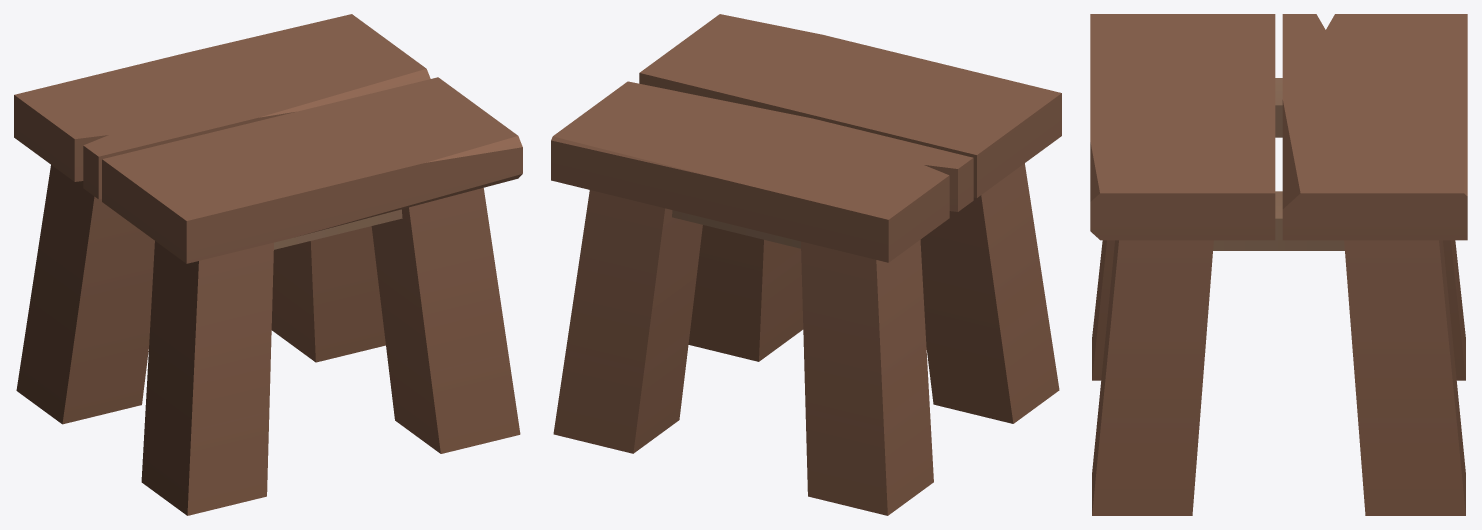
The model's file is Chair_01.fbx.
3 views of the same model, side by side, from view 1: azimuth 30°, elevation 25°; view 2: azimuth 150°, elevation 25°; view 3: azimuth 270°, elevation 25° (orthographic). The views are drawn at different scales.
Parts seen in each view (by area): view 1: Chair_01; view 2: Chair_01; view 3: Chair_01.
Part boxes in pixels (x1,y1,x2,y2): Chair_01: (14, 14, 522, 515); Chair_01: (551, 14, 1061, 515); Chair_01: (1090, 14, 1467, 515).
Size of the model in its own units: 49.11 by 41.29 by 43.65.
